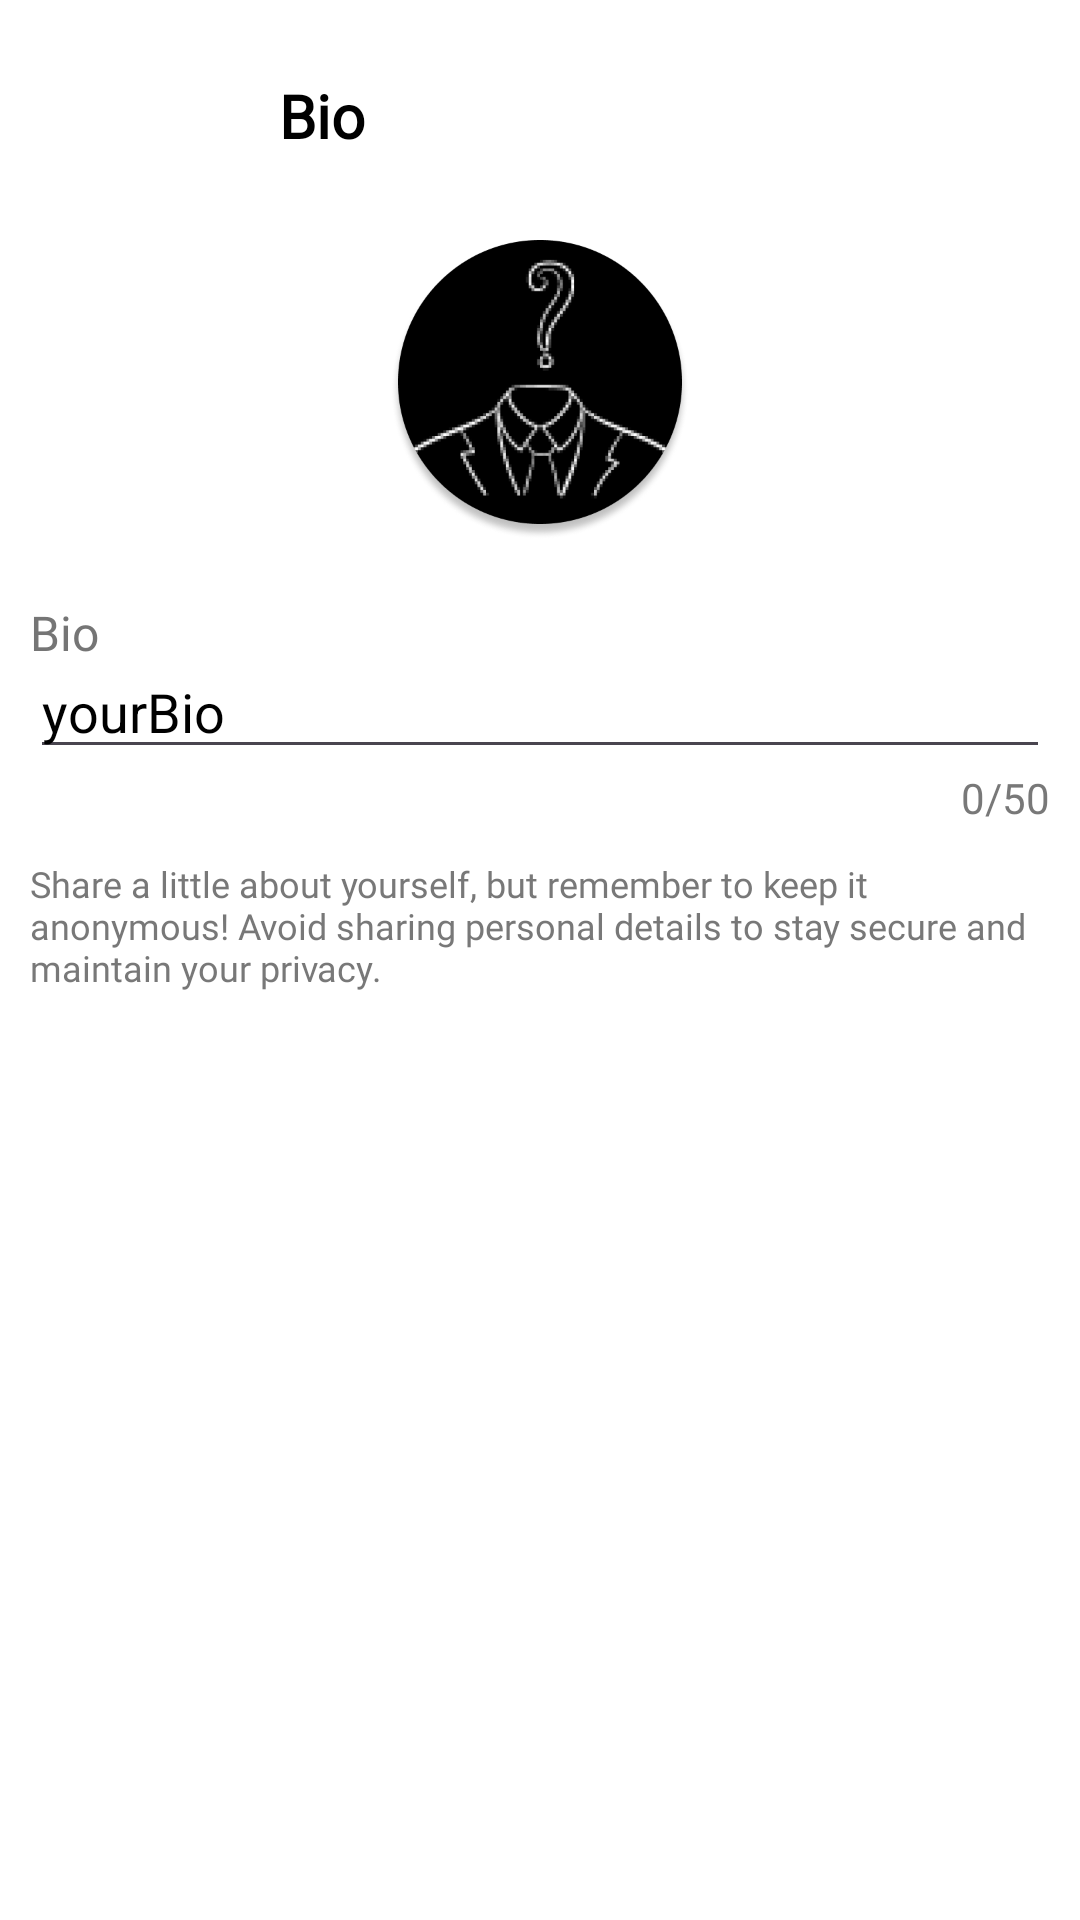

Named icons in this screenshot (1080 × 1920) and their bounding boxes, rect(x1, y1, x2, y2):
profile: rect(397, 240, 683, 533)
